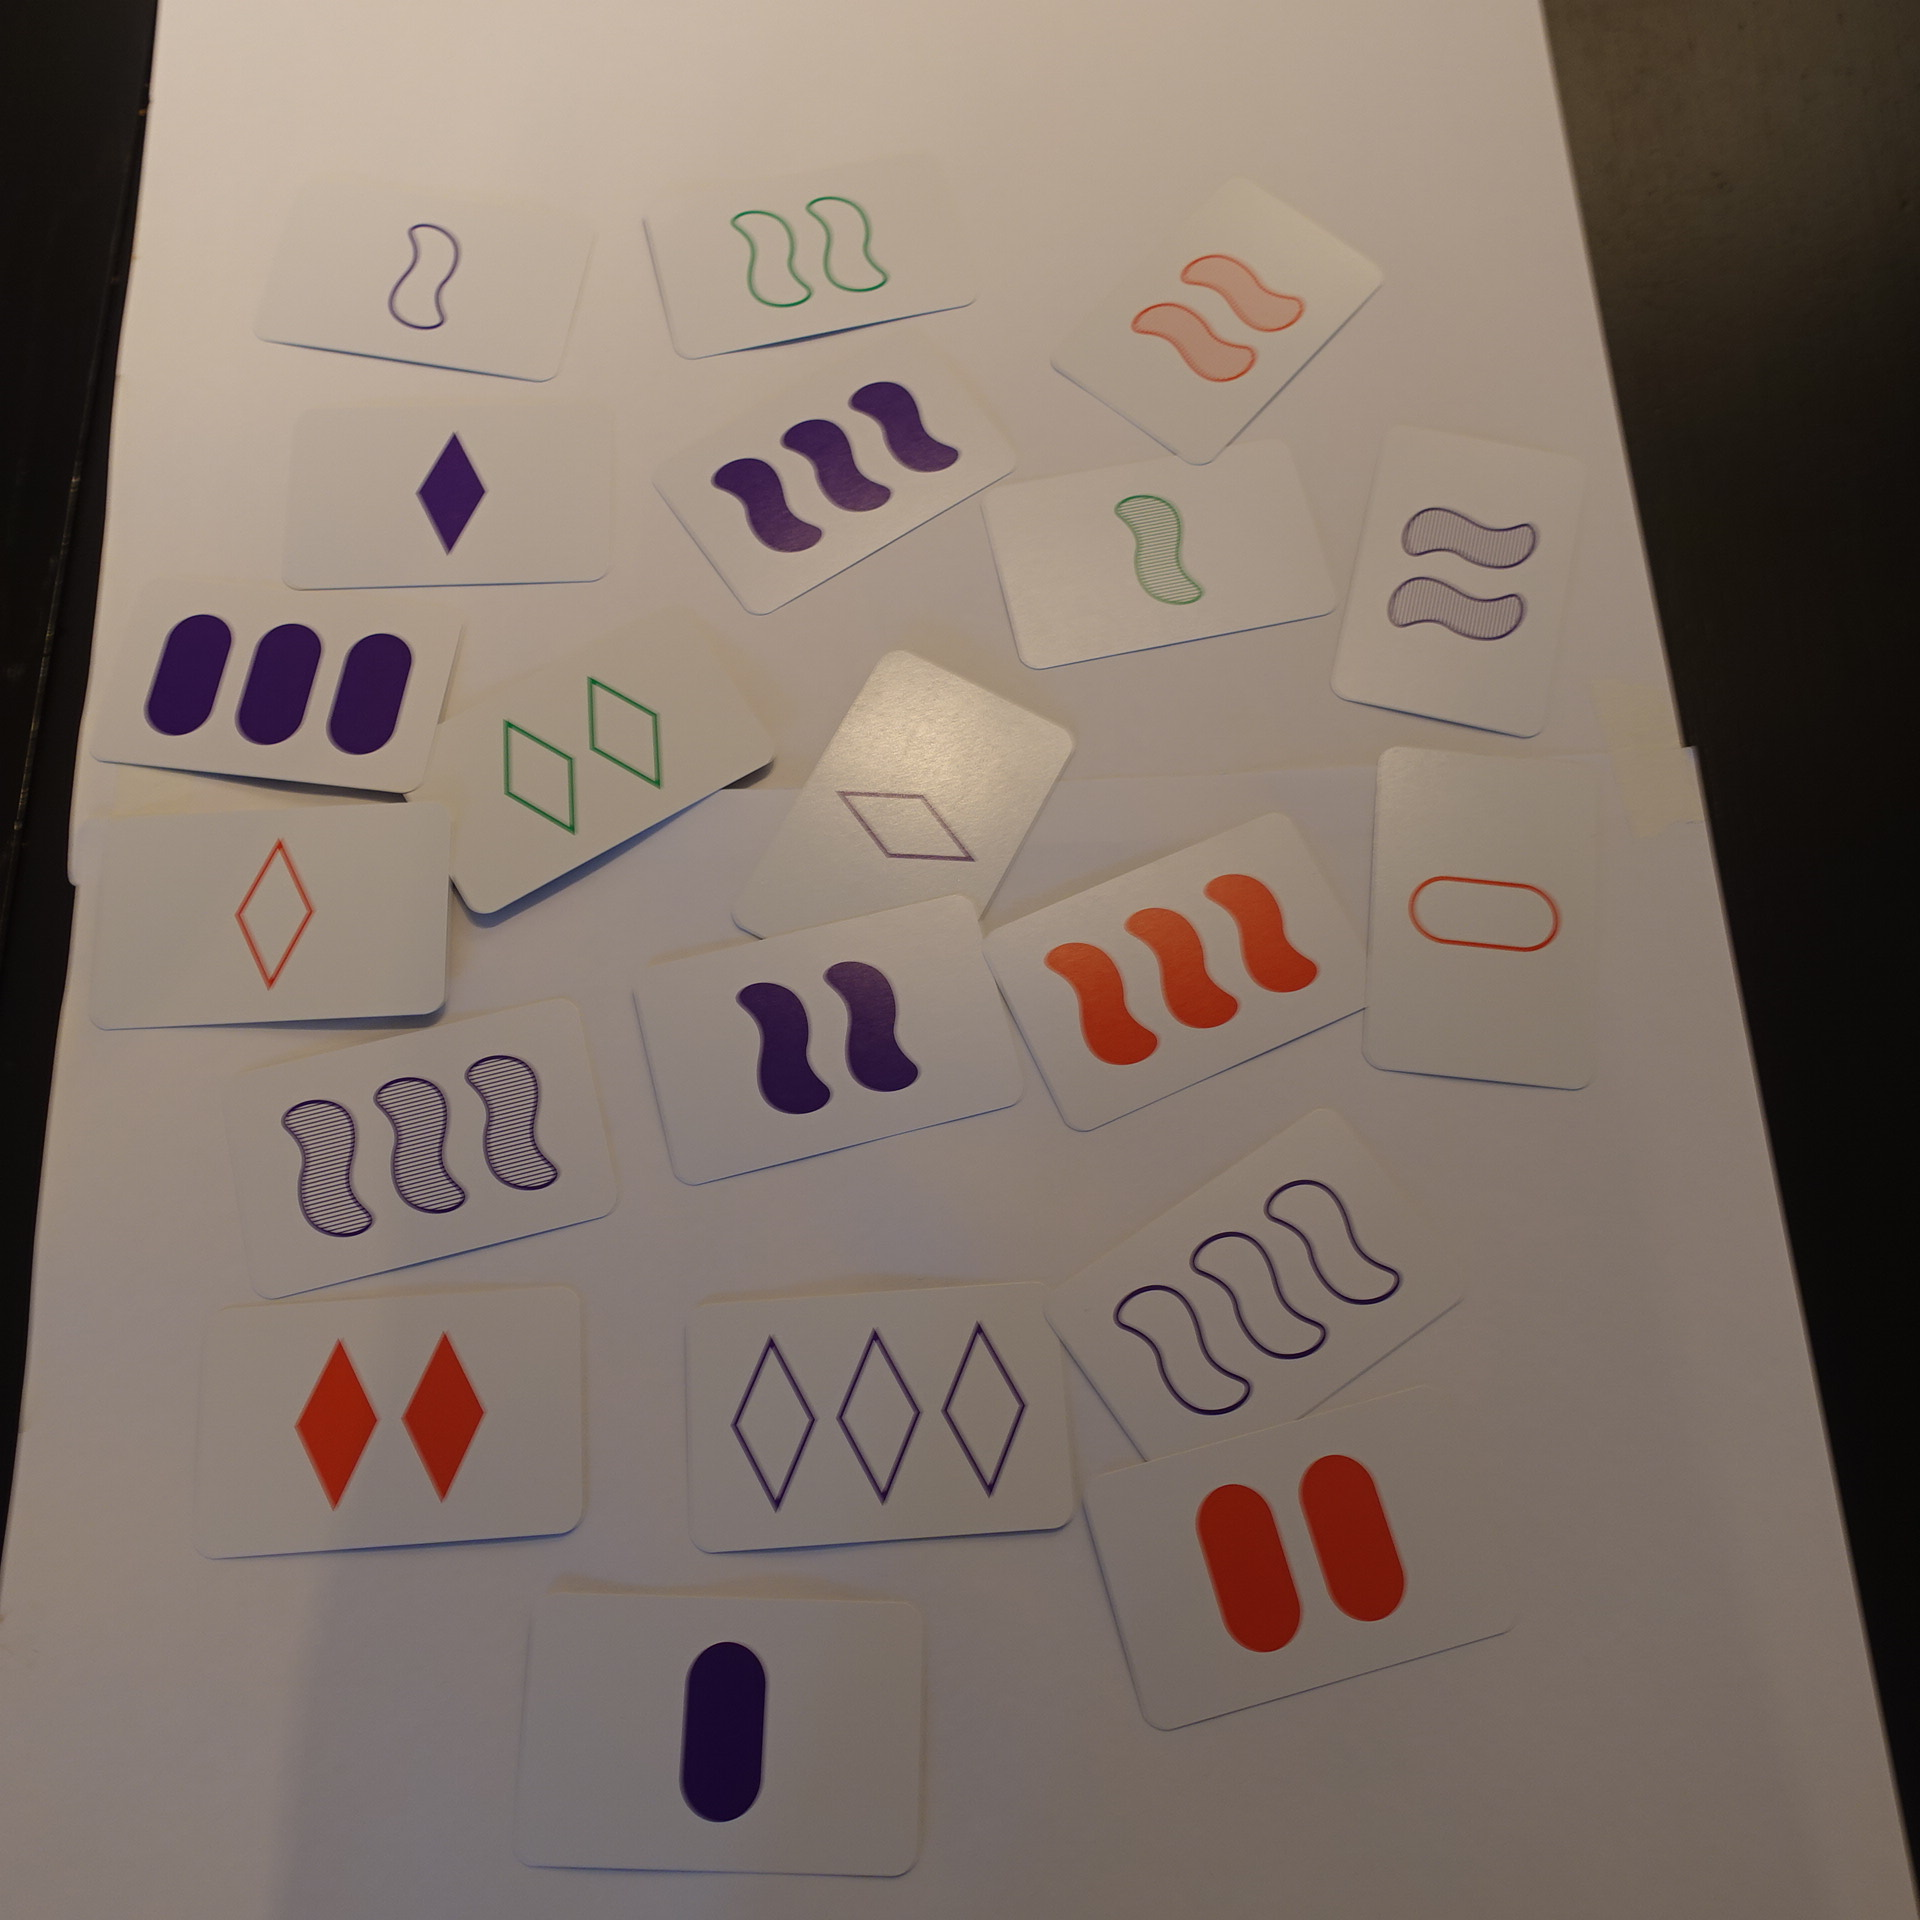c-1-f-d-p: (271, 387, 631, 600)
c-1-f-o-p: (503, 1575, 939, 1887)
c-1-h-d-g: (974, 434, 1352, 677)
c-1-u-d-p: (730, 645, 1085, 1000), (243, 164, 605, 389)
c-1-u-d-r: (70, 788, 462, 1036)
c-1-u-o-r: (1347, 730, 1626, 1104)
c-2-f-d-p: (617, 886, 1039, 1194)
c-2-f-d-r: (176, 1269, 600, 1572)
c-2-f-o-r: (1058, 1378, 1531, 1737)
c-2-h-d-p: (1322, 415, 1605, 747)
c-2-h-d-r: (1043, 167, 1394, 475)
c-2-u-d-g: (387, 612, 789, 925), (631, 130, 986, 364)
c-3-f-d-p: (642, 322, 1023, 628)
c-3-f-d-r: (972, 804, 1401, 1139)
c-3-f-o-p: (84, 564, 478, 804)
c-3-h-d-p: (213, 988, 626, 1305)
c-3-u-d-p: (1043, 1099, 1479, 1512), (673, 1273, 1088, 1565)
